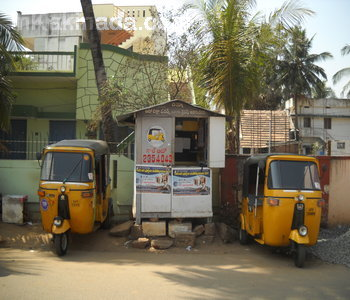auto: (239, 154, 323, 272), (37, 138, 113, 255)
